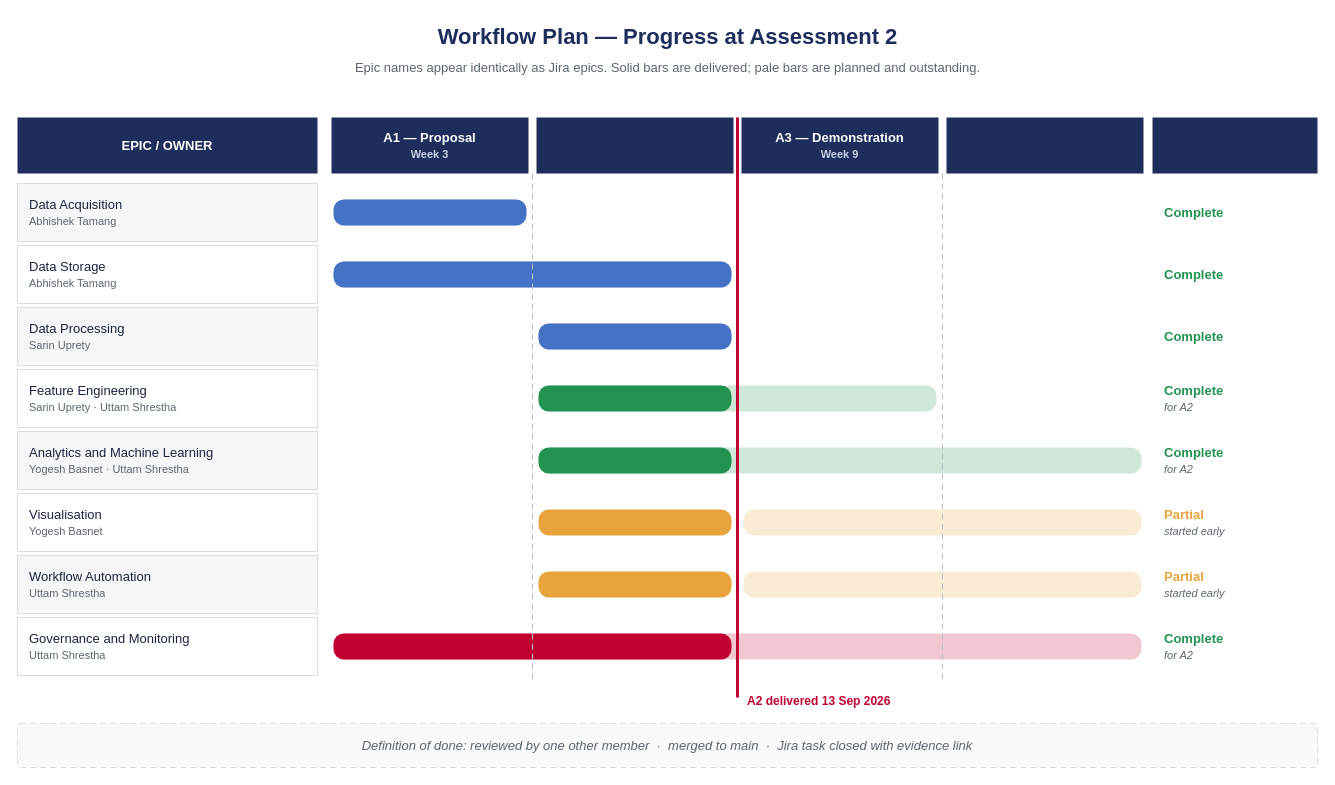
Some shapes in this 1335 by 785 pixel diagram are drawn without their labels. The shapes that lost their labels are listed below. From the top down, each one's box as (x1, y1, x2, y2) in pixels, then its label:
(536, 117, 733, 173): A2 — Development Week 6
(946, 117, 1143, 173): A4 — Final Report Week 12
(1152, 117, 1317, 173): A2 STATUS
